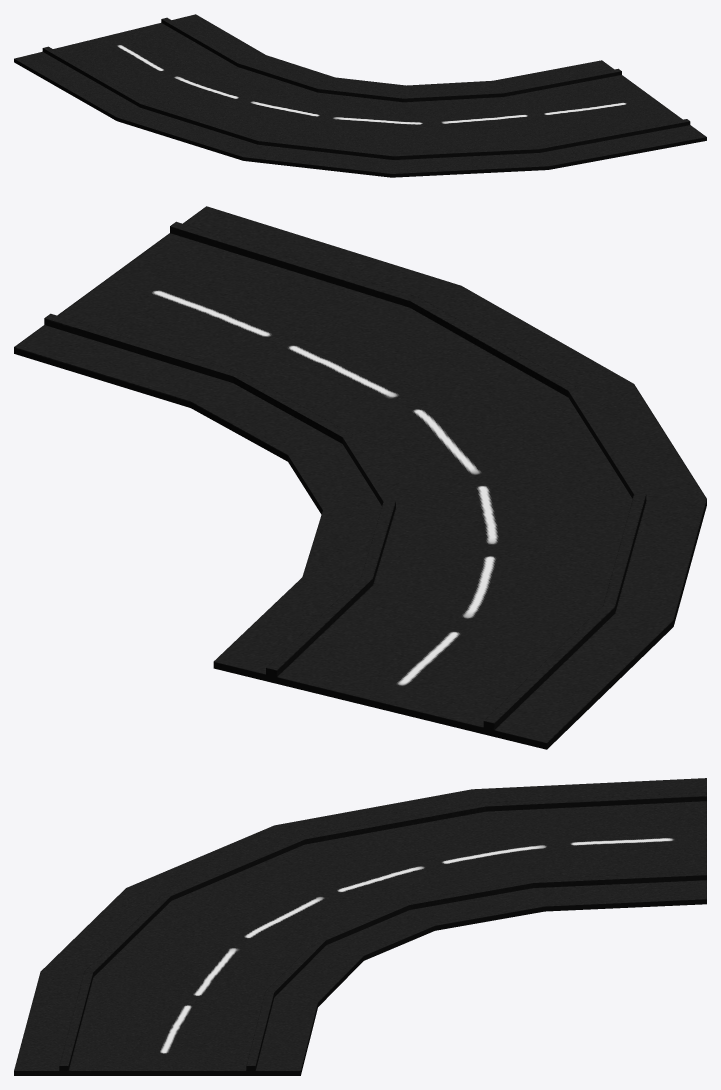
Rendered from Curved_road.fbx.
3 renders of one model, top to bottom at view 1: azimuth 30°, elevation 25°; view 2: azimuth 150°, elevation 25°; view 3: azimuth 270°, elevation 25°, orthographic. The views are drawn at different scales.
Parts seen in each view (by area): view 1: Cube; view 2: Cube; view 3: Cube.
Part boxes in pixels (x1,y1,x2,y2): Cube: (14, 14, 706, 177); Cube: (14, 206, 706, 749); Cube: (14, 778, 706, 1075).
Bounding box in the file's own units: 2522 × 40 × 2522.
1 material, 1 textured.
